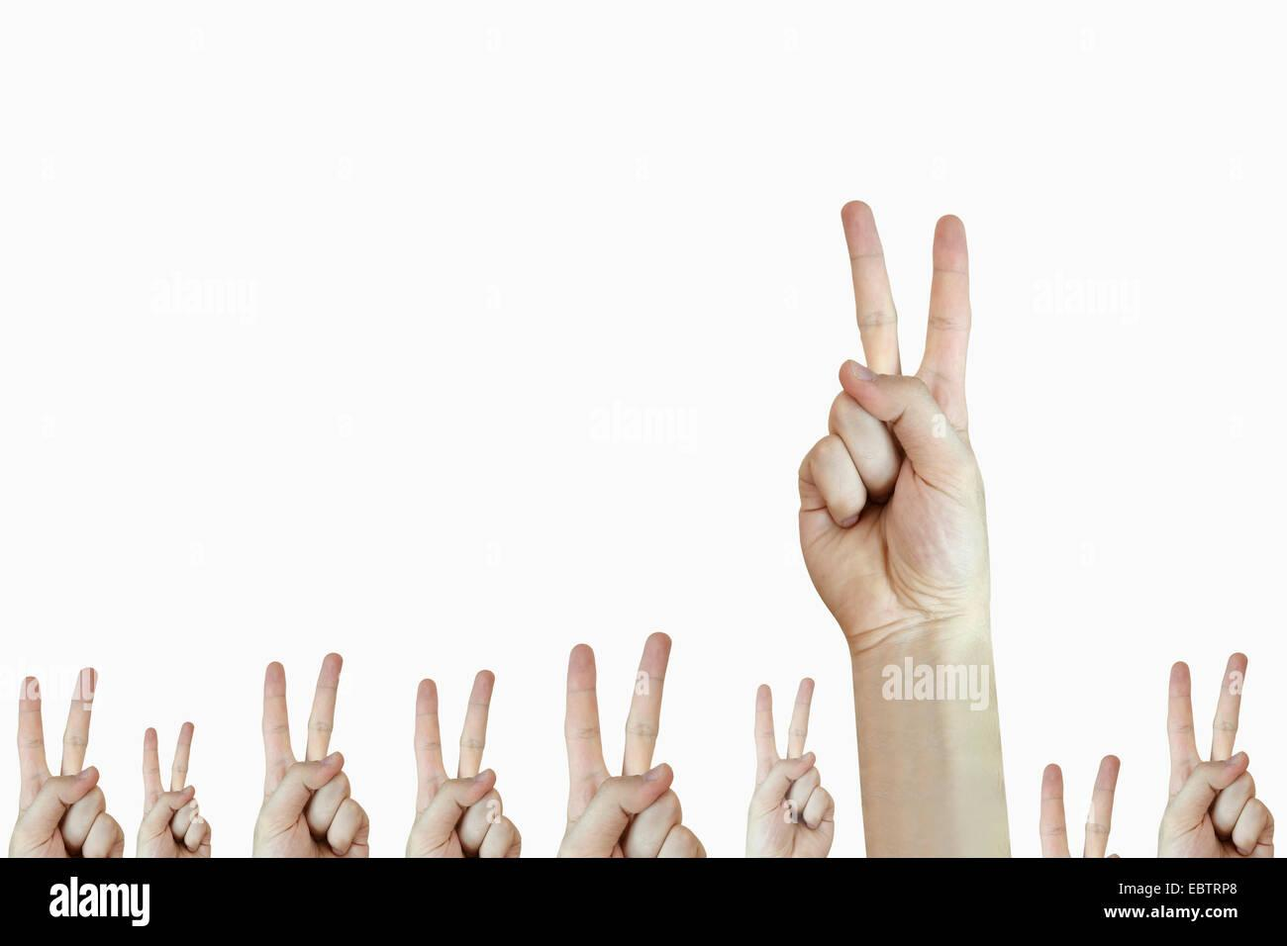peace_sign: (784, 182, 1019, 664)
